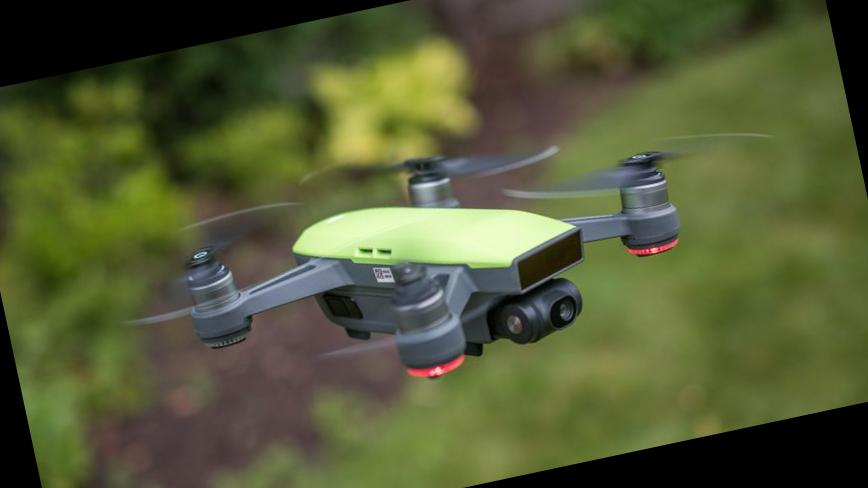drone: (88, 66, 782, 442)
